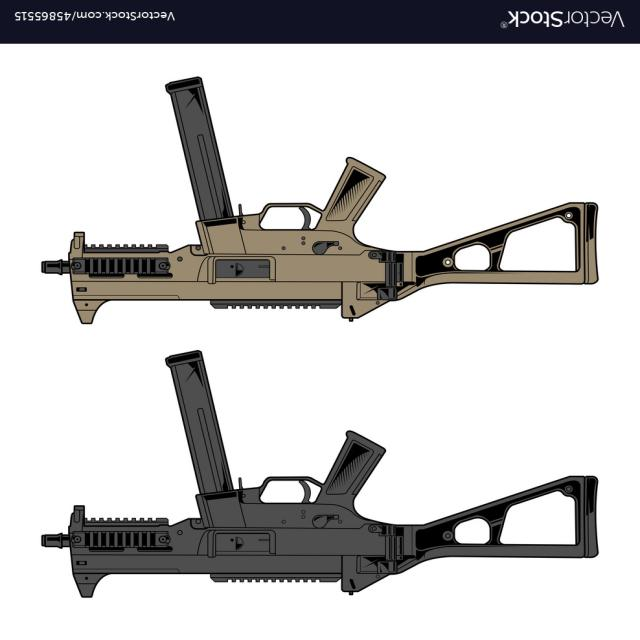Gun: (29, 70, 640, 355), (0, 352, 640, 622)
